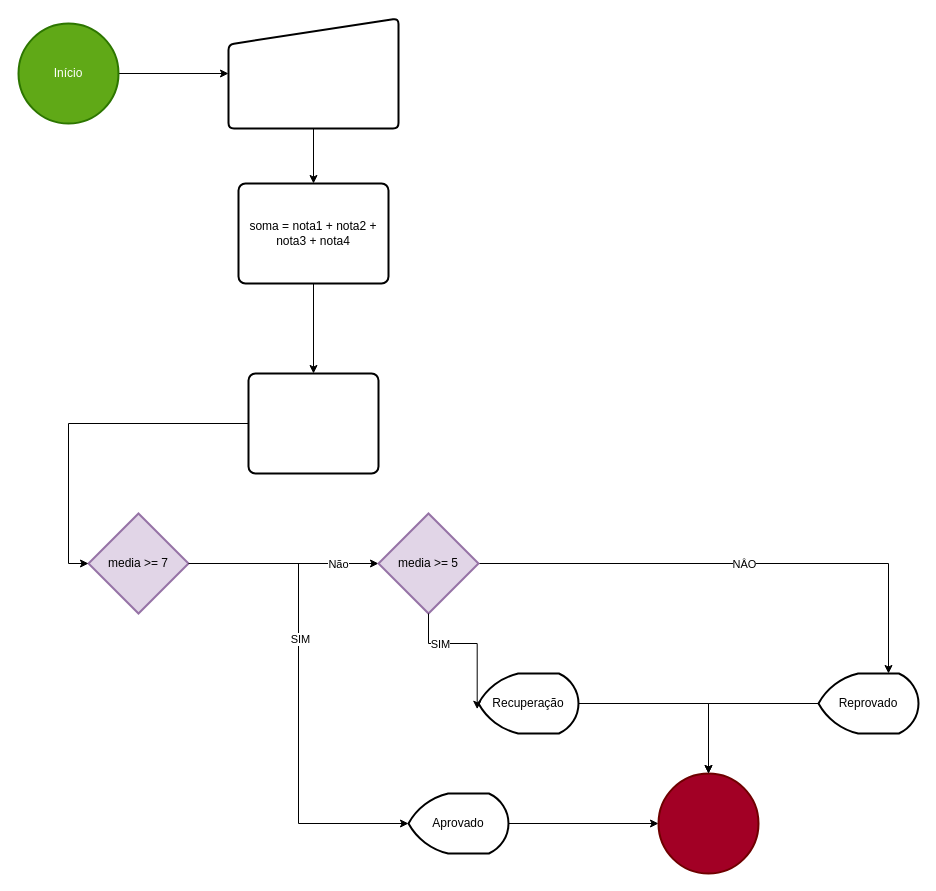
Image size: 936x891. Some labels were removed from this diagram. The shapes that lost their labels are listed below. From the top down, each one's box as (x1, y1, x2, y2) in pixels, then its label:
(227, 17, 399, 129): nota1 = X nota2 = X nota3 = X nota4 = X
(247, 372, 379, 474): media = soma / 4
(657, 772, 759, 874): Fim
